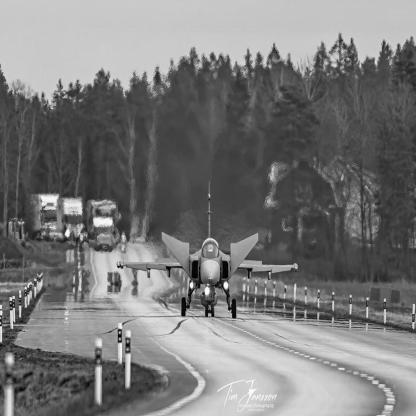JAS39: (117, 181, 299, 319)
